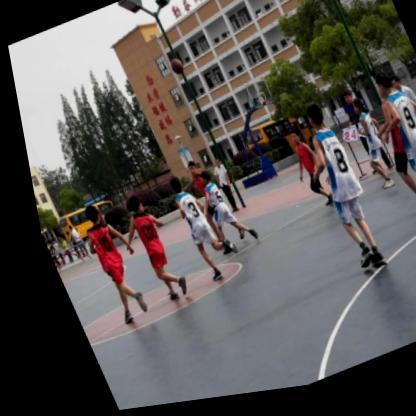basketball: (166, 61, 183, 80)
